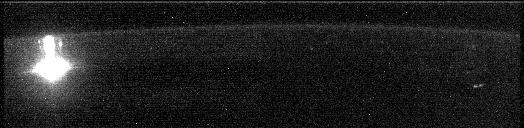positive: (36, 32, 65, 58)
